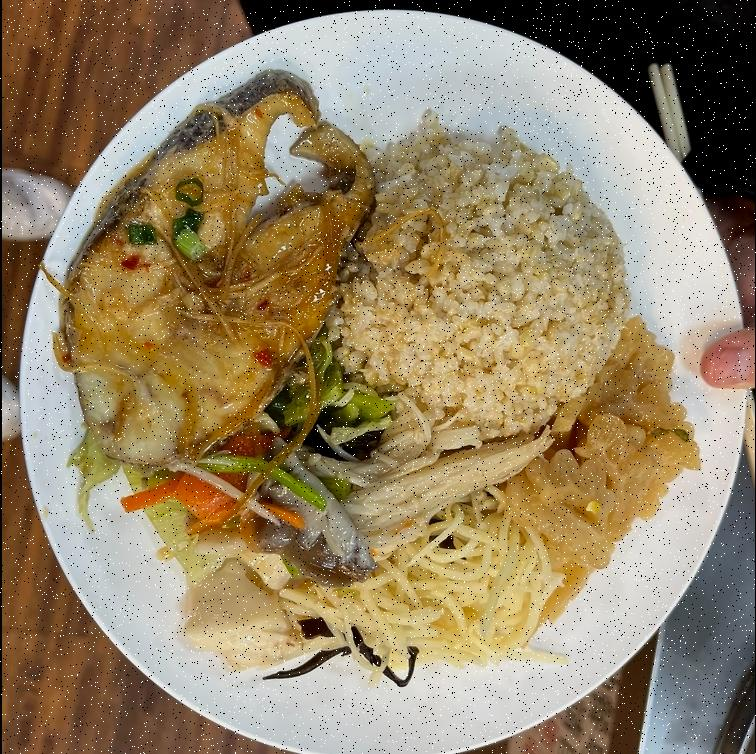big fried chicken leg: (11, 14, 743, 754)
box: (322, 107, 633, 443)
braised fish fillet: (156, 362, 554, 564), (520, 321, 702, 618), (292, 516, 560, 664)
braised pork ribs: (61, 68, 385, 470)
